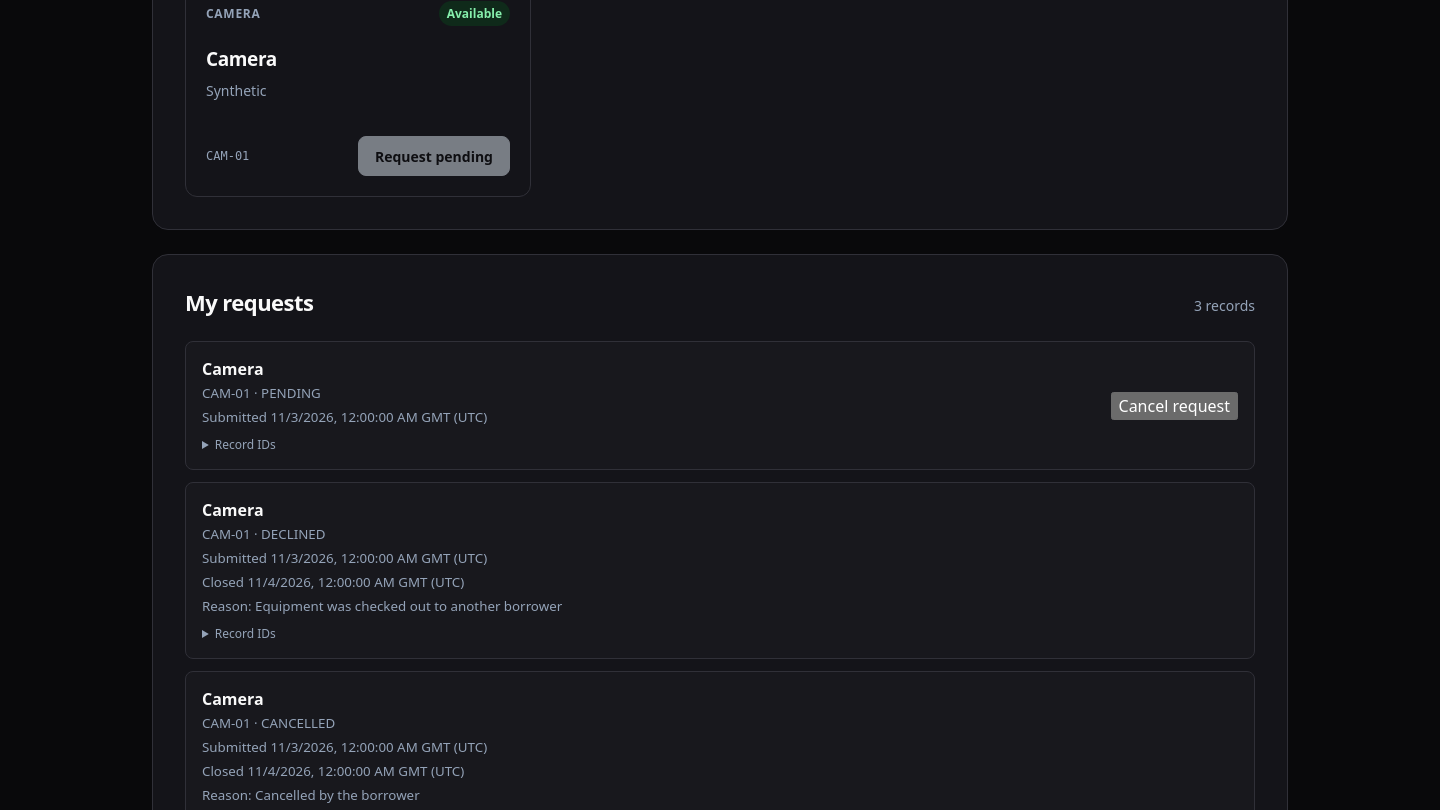
Test: Borrower cancel (mocked HTTP) › offers Cancel only for PENDING requests, posts with CSRF, and refreshes history
(page scrolled)
Click the button "Cancel request" at (1174, 406), box left=1110, top=392, right=1238, bottom=420
(page scrolled)
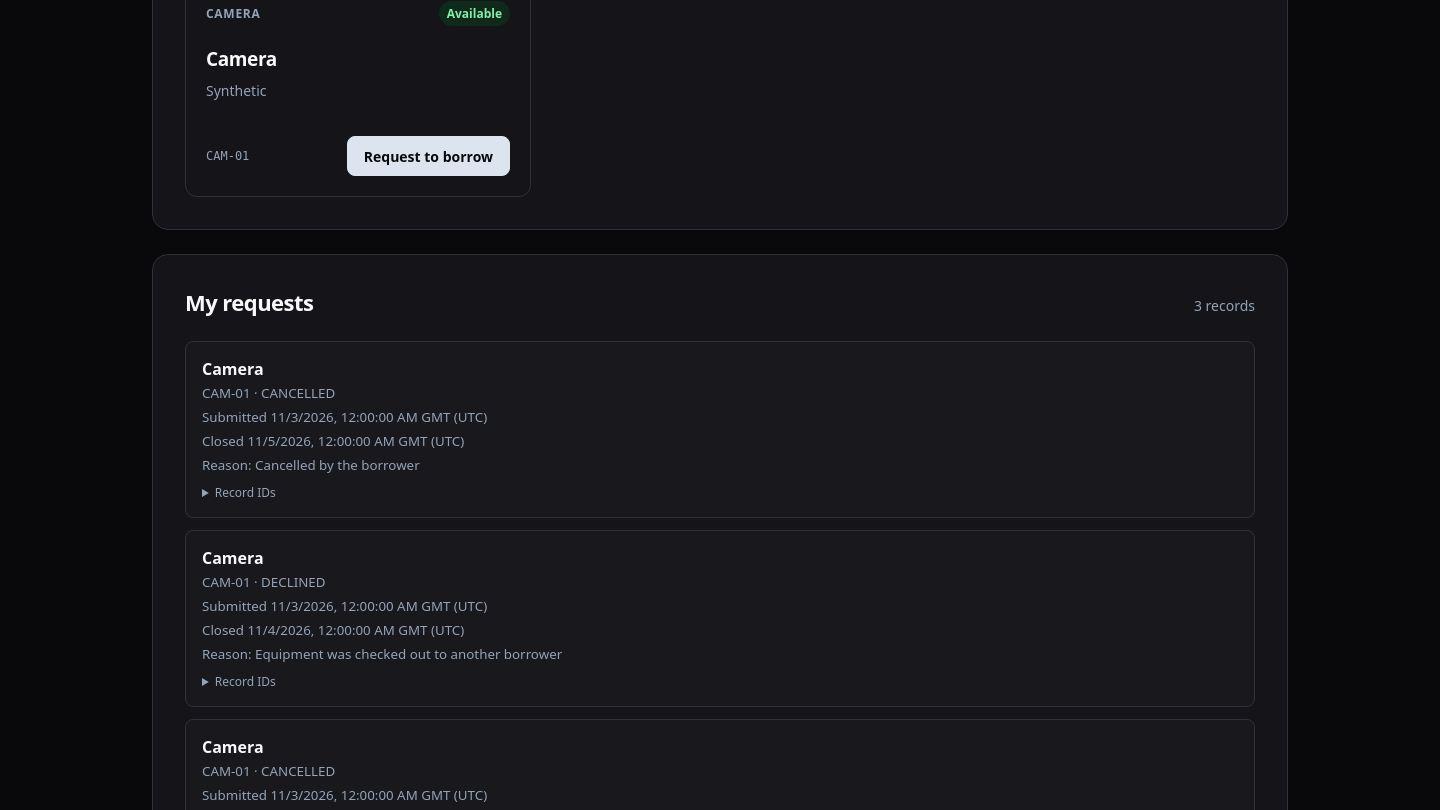
Result: the 1st text "CAM-01 · CANCELLED" is shown at left=202, top=384, right=335, bottom=402
Result: the text "Reason: Cancelled by the borrower" is shown at left=202, top=456, right=420, bottom=474
Result: no buttons "Cancel request" are shown
